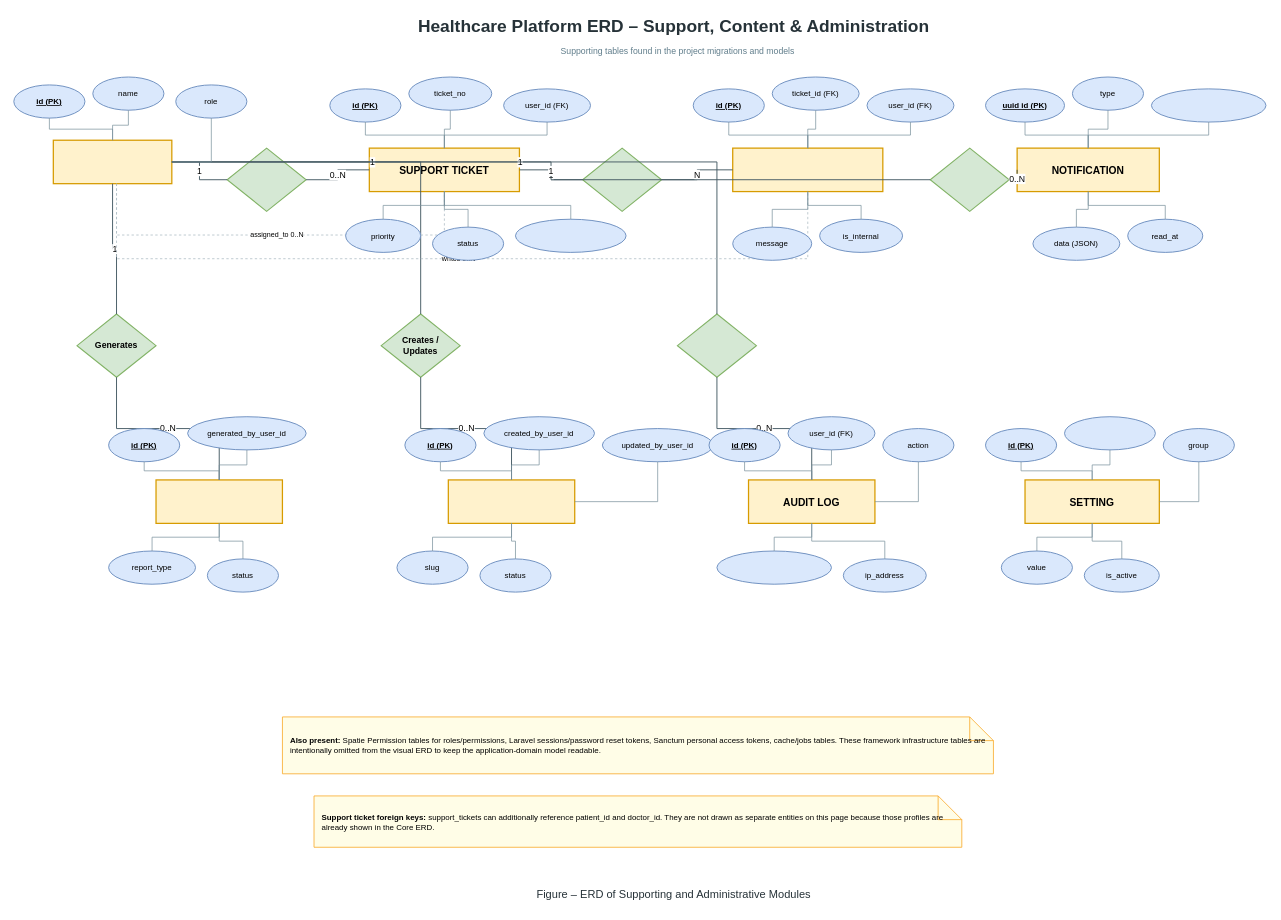
Image size: 1281x920. Some labels were removed from this diagram. Here are the shapes that lost their labels. From the top down, the centre of each, then its label:
(1208,105): notifiable_type / id
(112,161): USER
(266,179): Opens / Owns
(622,179): Contains
(807,169): TICKET MESSAGE
(969,179): Receives
(570,235): assigned_to_user_id
(716,345): Performs
(1109,433): key (UNIQUE)
(219,501): REPORT
(511,501): CMS PAGE
(774,567): auditable_type / id
